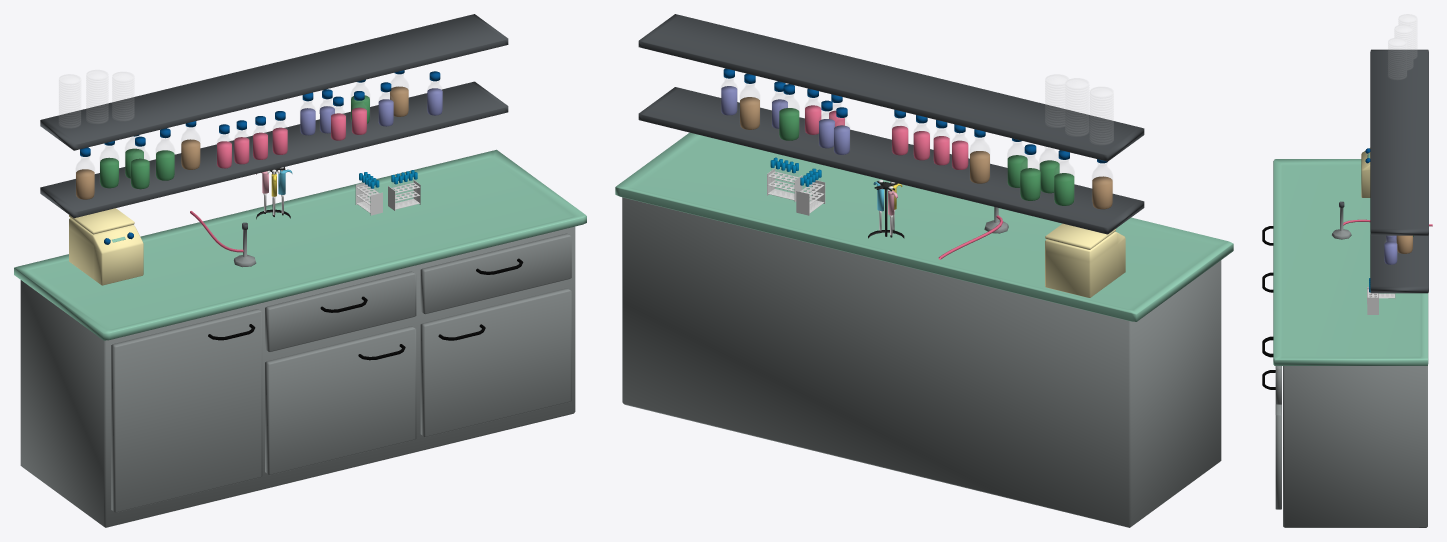
Rendered from lab_bench.glb.
The picture shows the model from 3 angles, left to right: view 1: azimuth 30°, elevation 25°; view 2: azimuth 150°, elevation 25°; view 3: azimuth 270°, elevation 25°; orthographic projection. The views are drawn at different scales.
Parts seen in each view (by area): view 1: Torus.000, Torus.004, Torus.002, Cube, Circle.011, Circle.003, Torus.003, Circle.012, Icosphere.002, inhalt.002, inhalt.005, inhalt (+5 smaller); view 2: Torus.000, Torus.004, Torus.002, Cube, Circle.011, Circle.003, Circle.012, inhalt.003, Icosphere.002, inhalt.006, inhalt.001, inhalt.007 (+7 smaller); view 3: Torus.000, Torus.004, Torus.002, Circle.012, Cube, Torus.003, Circle.003, inhalt_klein.001, inhalt.007, Circle.013, Plane.004, Circle.011.
Part boxes in pixels (box(x1,y1,x2,y2)): Torus.000: box(20, 226, 575, 527); Torus.004: box(14, 149, 586, 340); Torus.002: box(40, 14, 508, 218); Cube: box(69, 208, 143, 285); Circle.011: box(59, 75, 80, 127); Circle.003: box(86, 70, 107, 123); Torus.003: box(208, 258, 523, 360); Circle.012: box(112, 72, 133, 120); Icosphere.002: box(256, 167, 292, 219); inhalt.002: box(131, 136, 149, 189); inhalt.005: box(156, 128, 174, 180); inhalt: box(76, 147, 94, 199); Torus.000: box(622, 197, 1221, 527); Torus.004: box(615, 132, 1233, 321); Torus.002: box(638, 14, 1144, 234); Cube: box(1045, 223, 1125, 297); Circle.011: box(1090, 87, 1113, 144); Circle.003: box(1065, 79, 1088, 136); Circle.012: box(1045, 75, 1068, 127); inhalt.003: box(1020, 144, 1040, 200); Icosphere.002: box(868, 180, 904, 238); inhalt.006: box(779, 84, 799, 140); inhalt.001: box(1054, 150, 1074, 205); inhalt.007: box(740, 73, 759, 129); Torus.000: box(1275, 366, 1427, 527); Torus.004: box(1273, 159, 1428, 365); Torus.002: box(1370, 49, 1428, 293); Circle.012: box(1388, 38, 1406, 79); Cube: box(1361, 148, 1370, 197); Torus.003: box(1262, 226, 1275, 389); Circle.003: box(1395, 25, 1412, 69); inhalt_klein.001: box(1384, 236, 1397, 264); inhalt.007: box(1396, 235, 1412, 253); Circle.013: box(1331, 201, 1351, 239); Plane.004: box(1367, 287, 1378, 314); Circle.011: box(1399, 14, 1416, 58).
Size of the model in its own units: 2.62 by 2.01 by 0.9379.
